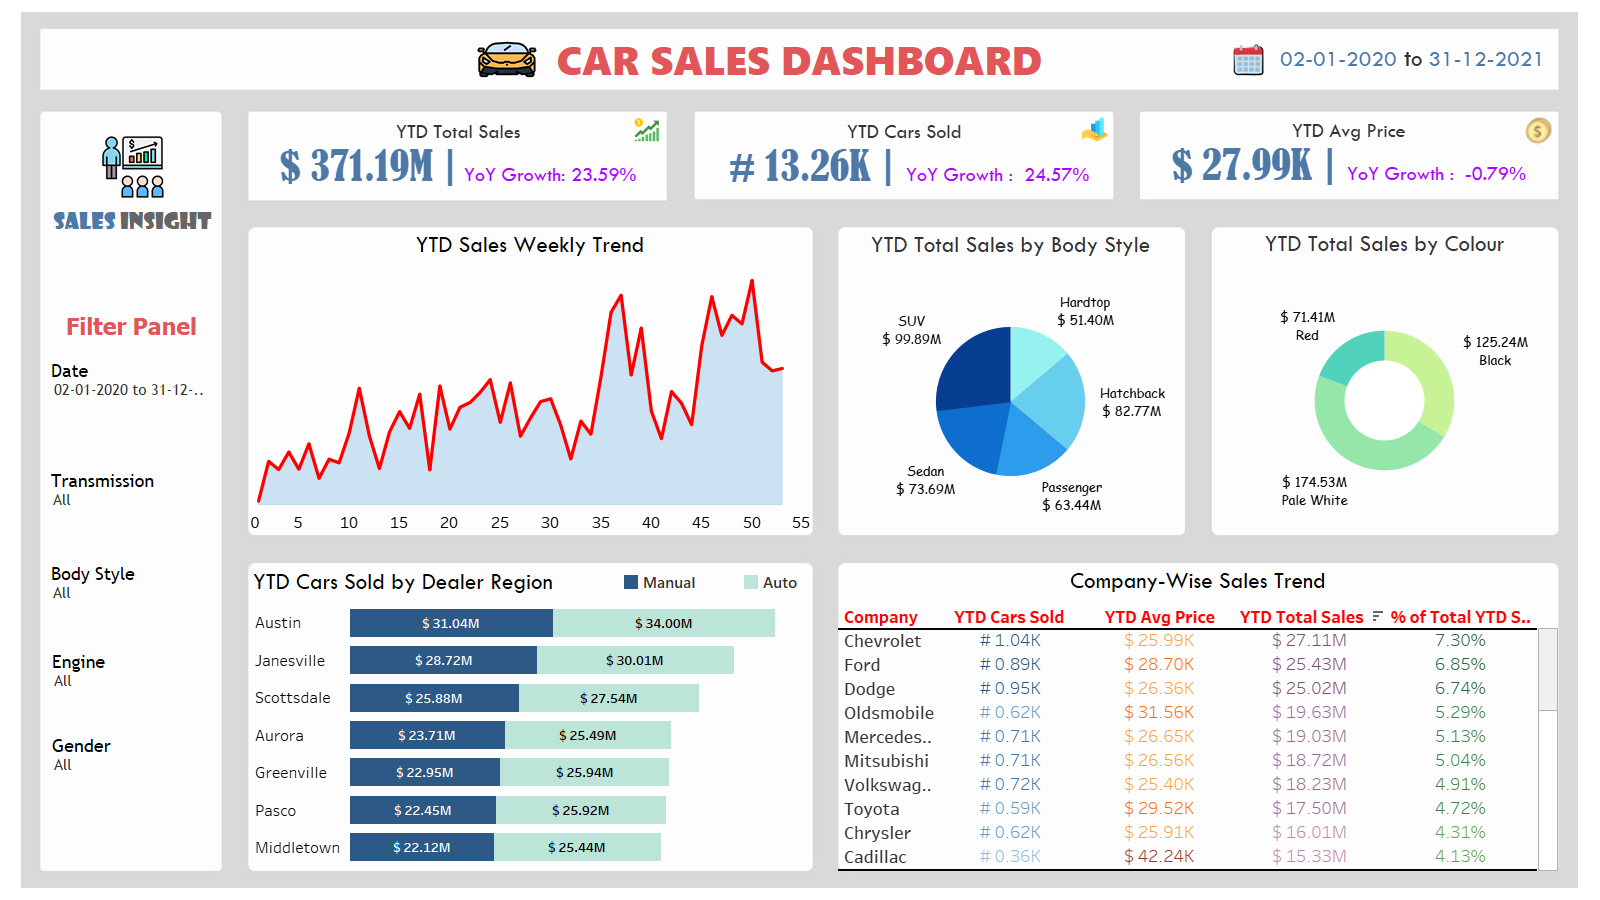

The page's visual inventory and layout, read from the dashboard file:
{"tool":"tableau","page":{"name":"MAIN DASHBOARD","canvas":[1600,900],"ordinal":0},"visuals":[{"type":"image","param":"C:/Users/devsa/OneDrive/Desktop/MOCK TABLEAU/Car Sales Background Tableau.jpg","box":[8,8,1584,884]},{"type":"text","box":[41,29,1517,60]},{"type":"image","param":"C:/Users/devsa/OneDrive/Desktop/MOCK TABLEAU/car.png","box":[437,29,139,61]},{"type":"image","param":"C:/Users/devsa/OneDrive/Desktop/MOCK TABLEAU/icons8-calendar-100.png","box":[1211,39,75,43]},{"type":"worksheet","title":"Date Range","mark":"Automatic","box":[1272,43,283,30]},{"type":"image","param":"C:/Users/devsa/OneDrive/Desktop/MOCK TABLEAU/sales-48.png","box":[632,105,29,50]},{"type":"image","param":"C:/Users/devsa/OneDrive/Desktop/MOCK TABLEAU/icons8-analysis-48.png","box":[1080,105,29,50]},{"type":"image","param":"C:/Users/devsa/OneDrive/Desktop/MOCK TABLEAU/icons8-average-price-16.png","box":[1525,106,29,50]},{"type":"worksheet","title":"YTD Total Sales","mark":"Automatic","box":[248,110,421,92]},{"type":"worksheet","title":"YTD Avg Price","mark":"Automatic","box":[1139,110,421,90]},{"type":"worksheet","title":"YTD Cars Sold","mark":"Automatic","box":[695,112,419,88]},{"type":"image","param":"C:/Users/devsa/OneDrive/Desktop/MOCK TABLEAU/pitch.png","box":[100,134,66,65]},{"type":"text","box":[49,205,167,30]},{"type":"worksheet","title":"YTD Total Sales by Colour","mark":"Pie","rows":["Calculation_484418456969920522","Calculation_484418456969920522"],"box":[1210,225,349,310]},{"type":"worksheet","title":"YTD Sales Weekly Trend","mark":"Area","rows":["Calculation_484418455865647104","Calculation_484418455865647104"],"cols":["Date"],"box":[248,226,564,309]},{"type":"worksheet","title":"YTD Total Sales by Body Style","mark":"Pie","box":[836,226,349,310]},{"type":"text","box":[48,311,167,30]},{"type":"filter","title":"YTD Sales Weekly Trend","param":"[federated.03llkql0ussq6j1duhu6d1qqe3wq].[none:Date:qk]","box":[51,359,160,65]},{"type":"filter","title":"YTD Sales Weekly Trend","param":"[federated.03llkql0ussq6j1duhu6d1qqe3wq].[none:Transmission:nk]","box":[51,469,160,63]},{"type":"filter","title":"YTD Sales Weekly Trend","param":"[federated.03llkql0ussq6j1duhu6d1qqe3wq].[none:Body Style:nk]","box":[51,562,160,77]},{"type":"worksheet","title":"Company-Wise Sales Trend","mark":"Automatic","rows":["Company"],"box":[837,562,721,309]},{"type":"worksheet","title":"YTD Cars Sold by Dealer Region","mark":"Automatic","rows":["Dealer_Region"],"cols":["Calculation_484418455865647104"],"box":[249,563,565,303]},{"type":"legend","title":"YTD Cars Sold by Dealer Region","param":"[federated.03llkql0ussq6j1duhu6d1qqe3wq].[none:Transmission:nk]","box":[621,572,250,36]},{"type":"filter","title":"YTD Sales Weekly Trend","param":"[federated.03llkql0ussq6j1duhu6d1qqe3wq].[none:Engine:nk]","box":[52,650,160,60]},{"type":"filter","title":"YTD Sales Weekly Trend","param":"[federated.03llkql0ussq6j1duhu6d1qqe3wq].[none:Gender:nk]","box":[52,734,160,76]}]}

Visuals, with their boxes in screenshot pixels (x1, y1, x2, y2), scaled from the page's 1600x900 canvas onto the 1600x900 screenshot:
image: bbox=(8, 8, 1592, 892)
text: bbox=(41, 29, 1558, 89)
image: bbox=(437, 29, 576, 90)
image: bbox=(1211, 39, 1286, 82)
"Date Range" worksheet: bbox=(1272, 43, 1555, 73)
image: bbox=(632, 105, 661, 155)
image: bbox=(1080, 105, 1109, 155)
image: bbox=(1525, 106, 1554, 156)
"YTD Total Sales" worksheet: bbox=(248, 110, 669, 202)
"YTD Avg Price" worksheet: bbox=(1139, 110, 1560, 200)
"YTD Cars Sold" worksheet: bbox=(695, 112, 1114, 200)
image: bbox=(100, 134, 166, 199)
text: bbox=(49, 205, 216, 235)
"YTD Total Sales by Colour" worksheet (Pie marks): bbox=(1210, 225, 1559, 535)
"YTD Sales Weekly Trend" worksheet (Area marks): bbox=(248, 226, 812, 535)
"YTD Total Sales by Body Style" worksheet (Pie marks): bbox=(836, 226, 1185, 536)
text: bbox=(48, 311, 215, 341)
"YTD Sales Weekly Trend" filter: bbox=(51, 359, 211, 424)
"YTD Sales Weekly Trend" filter: bbox=(51, 469, 211, 532)
"YTD Sales Weekly Trend" filter: bbox=(51, 562, 211, 639)
"Company-Wise Sales Trend" worksheet: bbox=(837, 562, 1558, 871)
"YTD Cars Sold by Dealer Region" worksheet: bbox=(249, 563, 814, 866)
"YTD Cars Sold by Dealer Region" legend: bbox=(621, 572, 871, 608)
"YTD Sales Weekly Trend" filter: bbox=(52, 650, 212, 710)
"YTD Sales Weekly Trend" filter: bbox=(52, 734, 212, 810)
